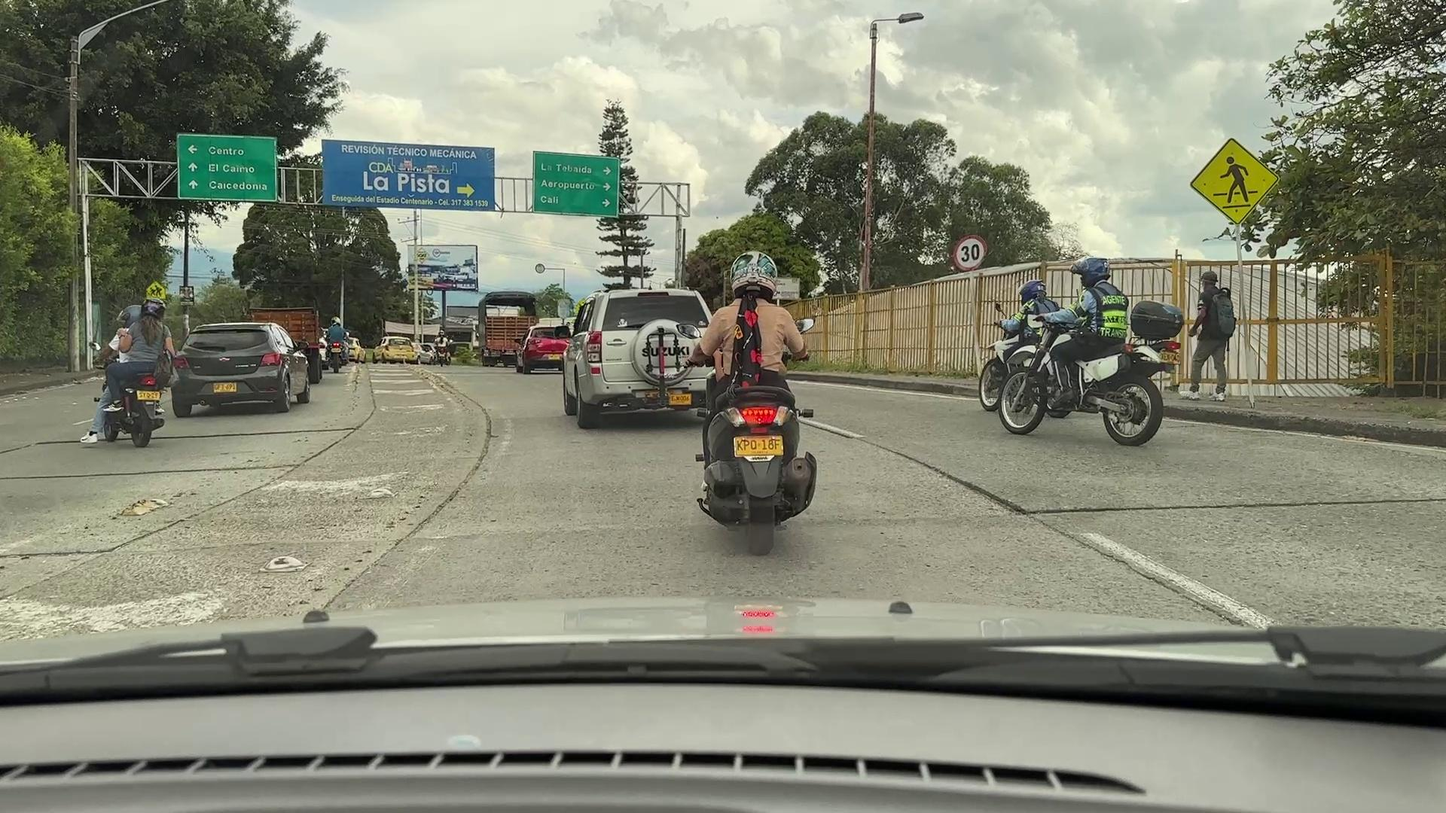grieta: (891, 451, 1028, 515)
